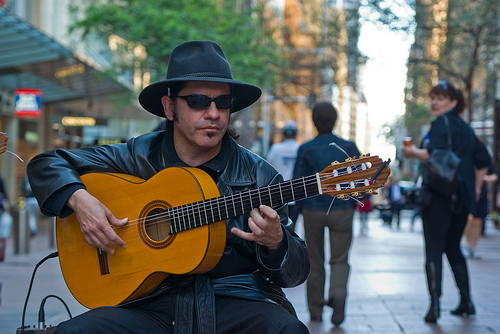guitar: (55, 152, 391, 310)
